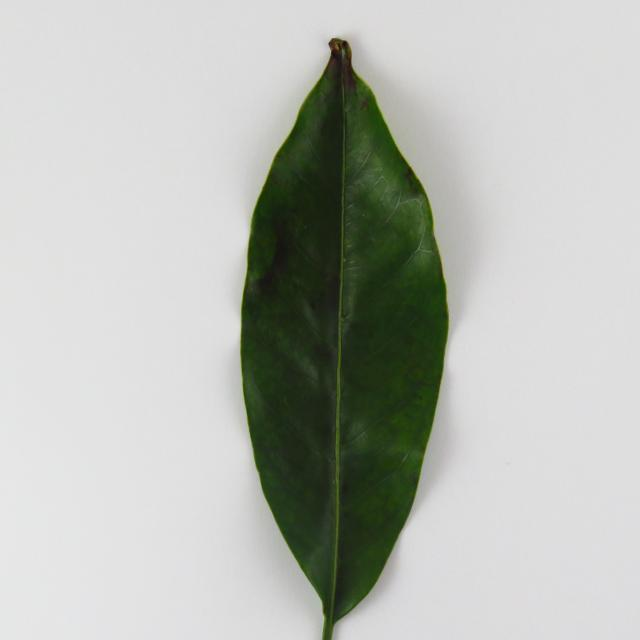DeficienciaNutricional-Magnesio: (241, 38, 449, 638)
